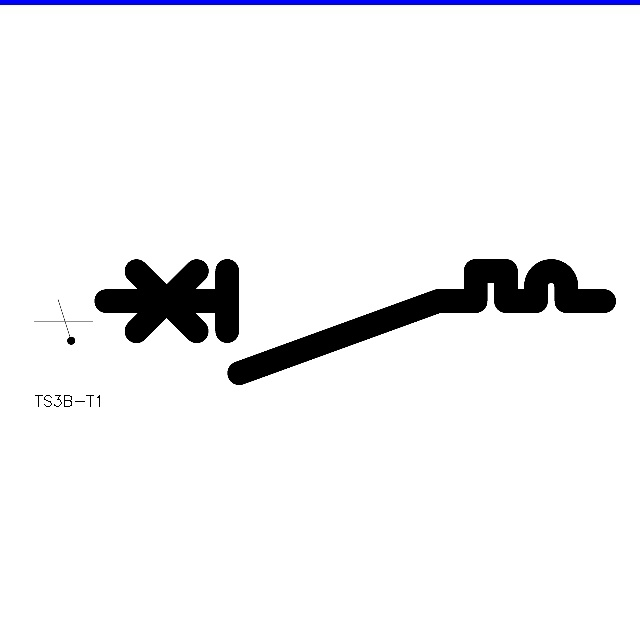interruptor_termomagnetico: (93, 258, 617, 386)
